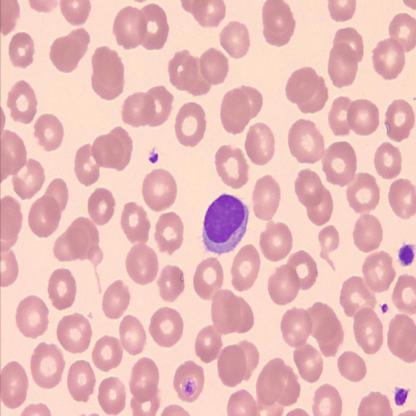Lymphocyte: (200, 192, 249, 255)
